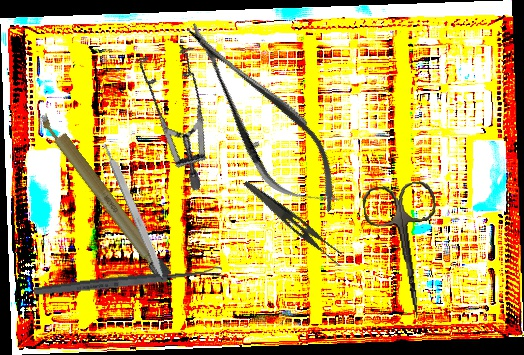Dressing Forceps: (235, 179, 350, 269)
Iris Scissors: (360, 179, 452, 324)
Micro Scissor: (164, 3, 359, 232)
Scalpel Handle: (36, 109, 173, 282), (101, 140, 169, 282)
Speculum: (102, 31, 242, 194)
Surgical Spoon: (33, 265, 223, 298)
